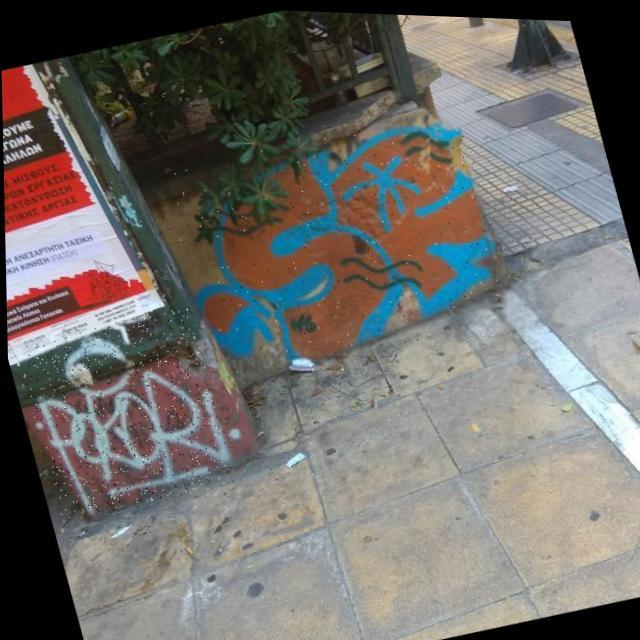-: (157, 91, 514, 392), (12, 300, 235, 524)
